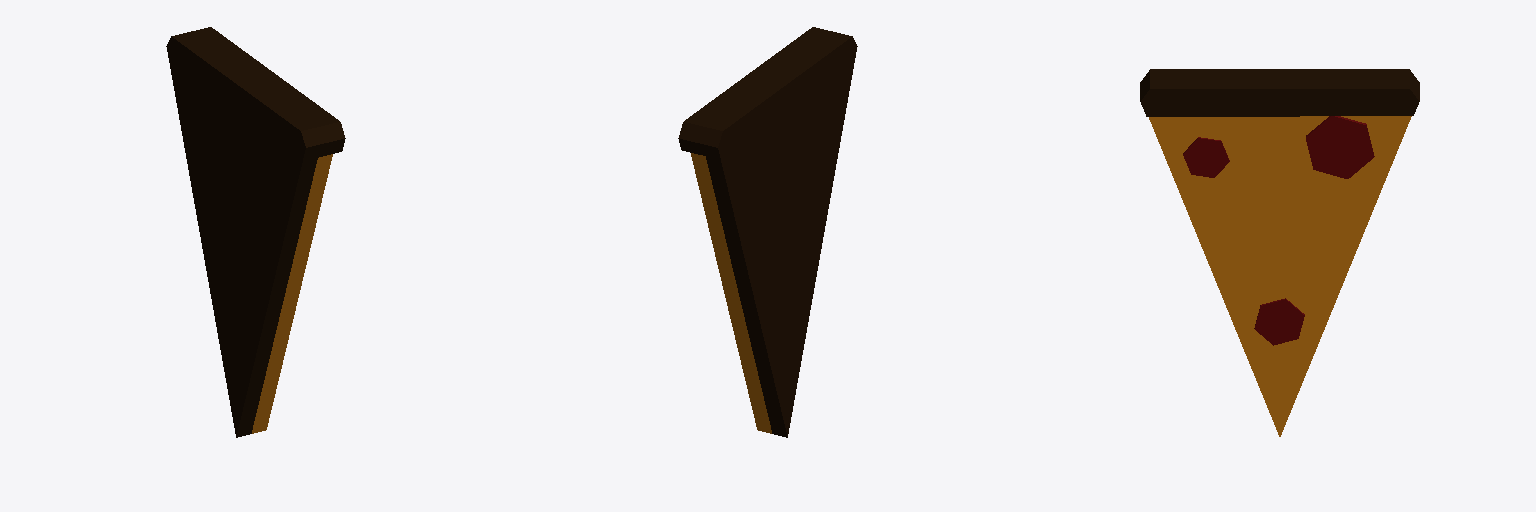
File: DO NOT USE PizzaHat.obj
3 renders of one model, left to right at view 1: azimuth 30°, elevation 25°; view 2: azimuth 150°, elevation 25°; view 3: azimuth 270°, elevation 25°, orthographic.
Visible parts, largest first — view 1: PizzaHat_Cube.001; view 2: PizzaHat_Cube.001; view 3: PizzaHat_Cube.001.
Part boxes in pixels (x1,y1,x2,y2): PizzaHat_Cube.001: (166, 27, 345, 437); PizzaHat_Cube.001: (678, 27, 857, 437); PizzaHat_Cube.001: (1140, 69, 1419, 436).
Bounding box in the file's own units: 0.1289 × 1.1 × 0.7866.